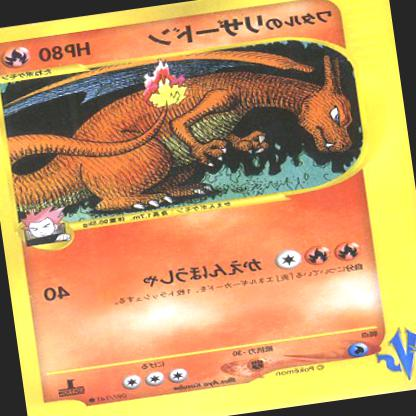Squirtle: (37, 41, 360, 221)
